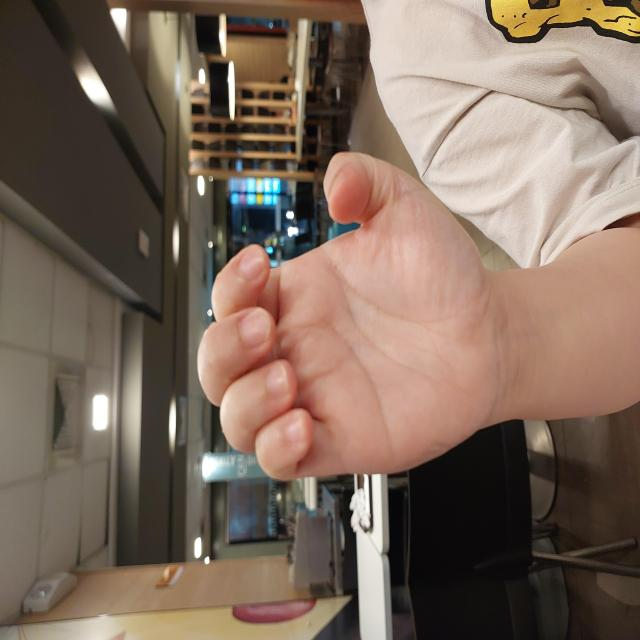E: (158, 196, 490, 498)
